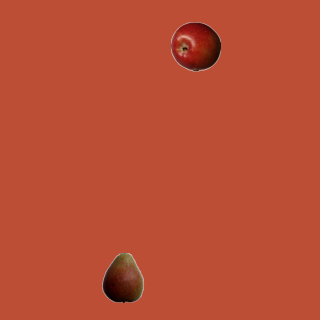Apple Braeburn: (170, 21, 220, 71)
Pear Forelle: (97, 252, 147, 302)
